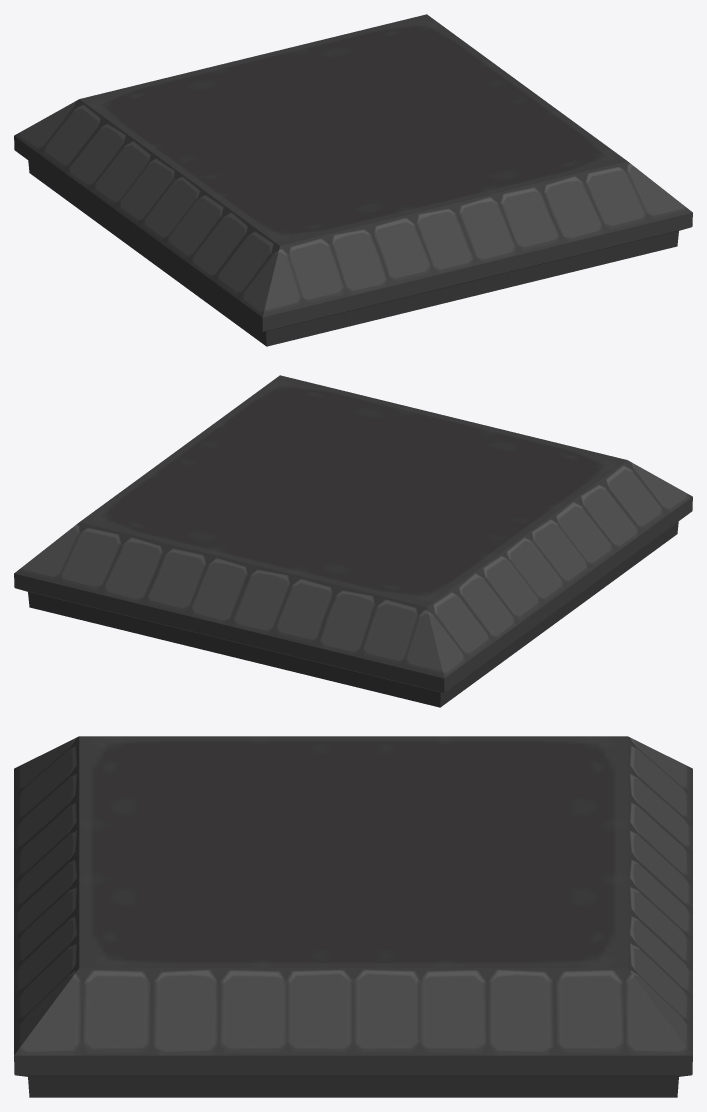
File: RoofTop_D09.fbx
3 renders of one model, top to bottom at view 1: azimuth 30°, elevation 25°; view 2: azimuth 150°, elevation 25°; view 3: azimuth 270°, elevation 25°, orthographic. The views are drawn at different scales.
Visible parts, largest first — view 1: RoofTop_D09; view 2: RoofTop_D09; view 3: RoofTop_D09.
Part boxes in pixels (x1,y1,x2,y2): RoofTop_D09: [14, 14, 692, 346]; RoofTop_D09: [14, 375, 692, 707]; RoofTop_D09: [14, 736, 692, 1097].
Size of the model in its own units: 252 by 44.61 by 252.
Materials: 1 (1 with a texture image).
